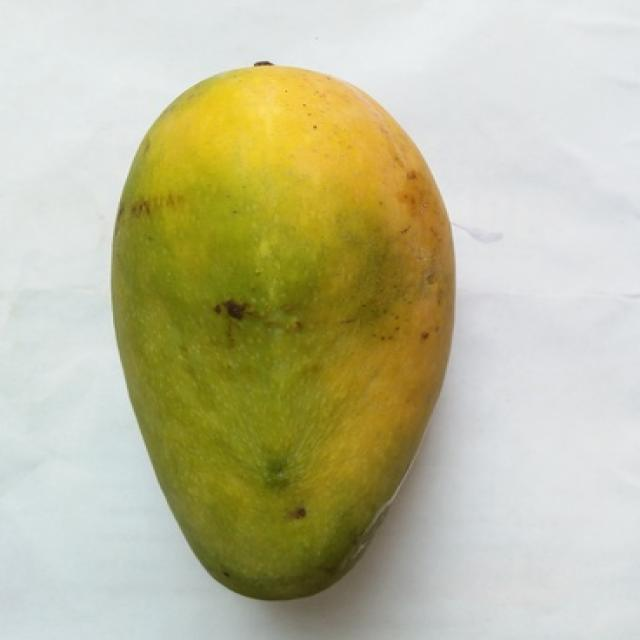Mango: (113, 64, 454, 599)
